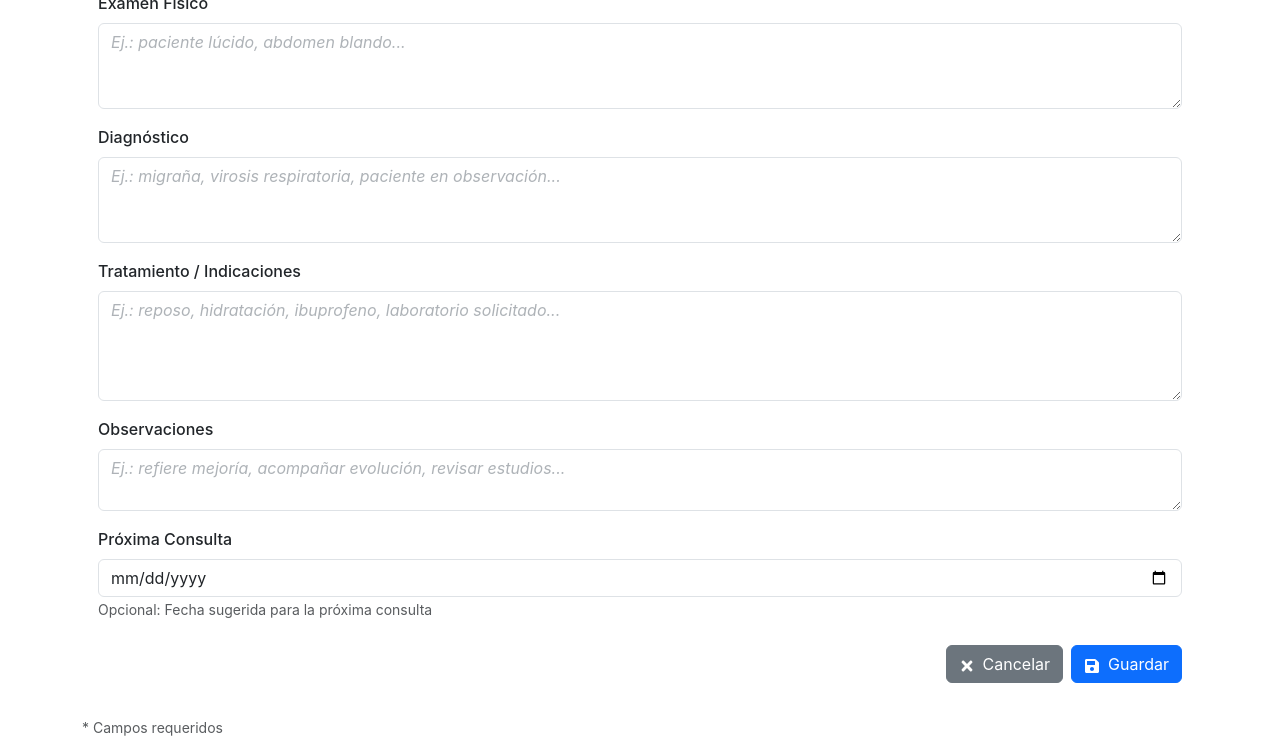
Test case: ConsultaForm › valida campos requeridos al enviar sin datos
(page scrolled)
Click the button "Guardar".
click(1126, 664)  # box [1071,645,1182,683]
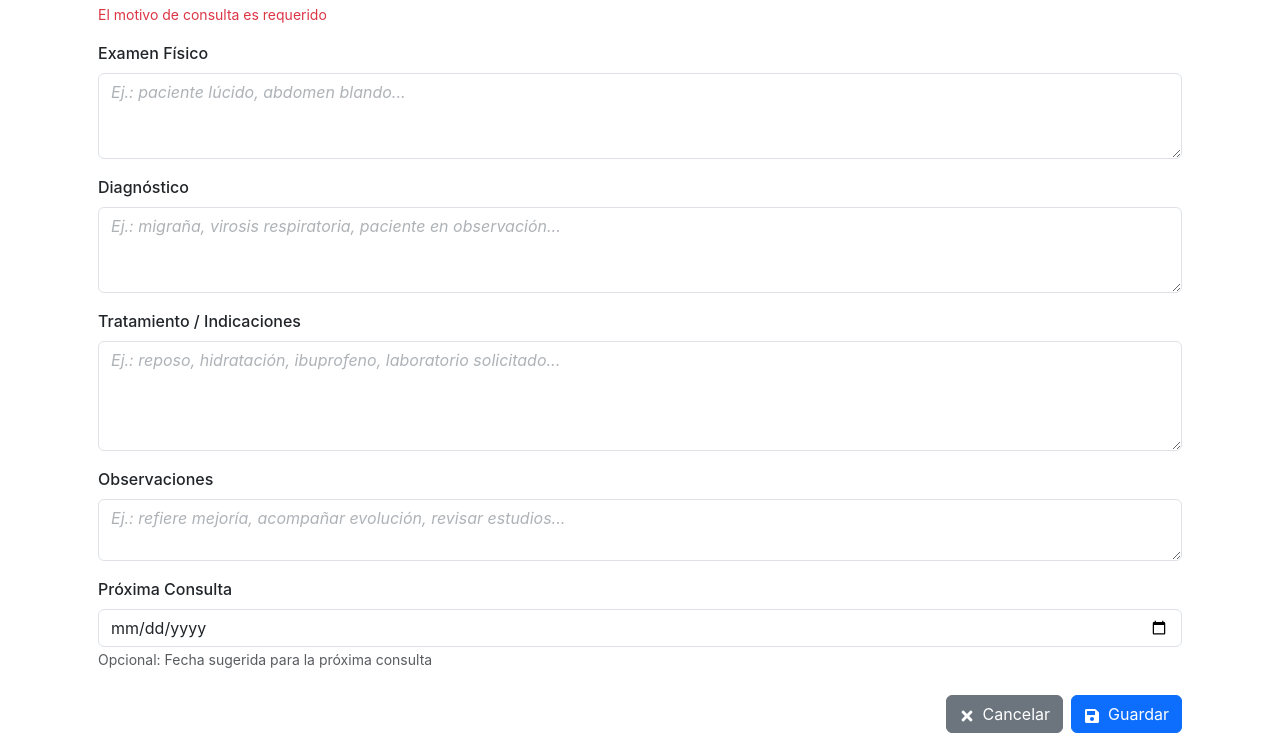
Expected: the text "El motivo de consulta es requerido" is shown, [98,6,327,23]
